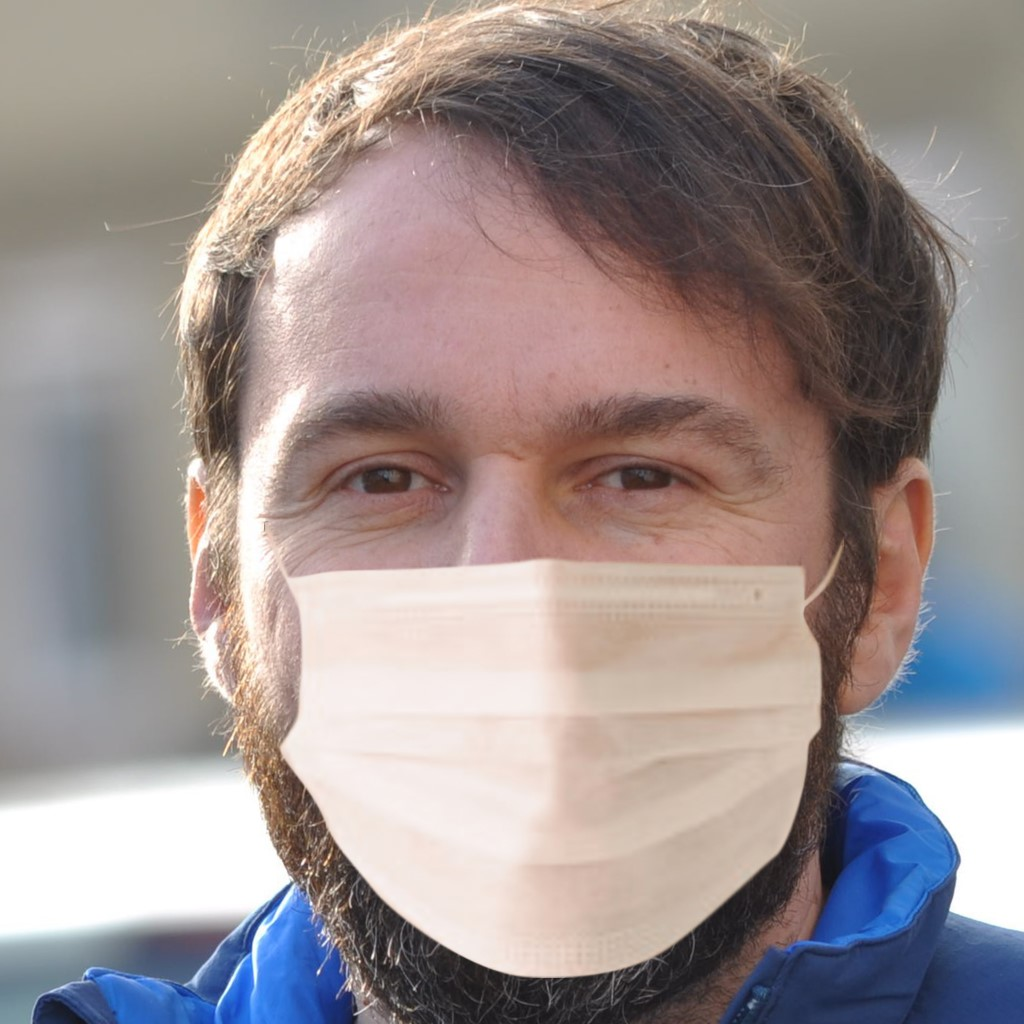con_mascara: (191, 149, 872, 1012)
